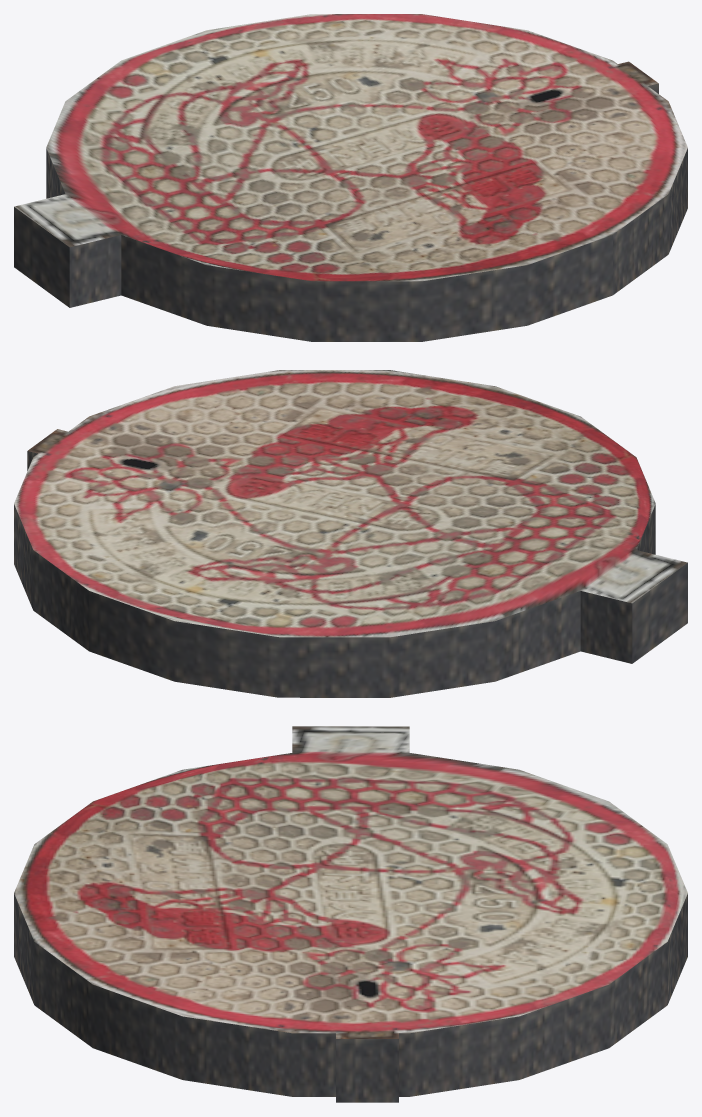
File: jinggai_xiaofang.gltf
3 views of the same model, one above another, from view 1: azimuth 30°, elevation 25°; view 2: azimuth 150°, elevation 25°; view 3: azimuth 270°, elevation 25° (orthographic). The views are drawn at different scales.
Visible parts, largest first — view 1: jinggai05; view 2: jinggai05; view 3: jinggai05.
Part boxes in pixels (x1=…): jinggai05: x1=14, y1=14, x2=687, y2=341; jinggai05: x1=14, y1=370, x2=687, y2=697; jinggai05: x1=14, y1=726, x2=687, y2=1102.
Bounding box in the file's own units: 0.5267 × 0.05 × 0.48.
Materials: 1 (1 with a texture image).
